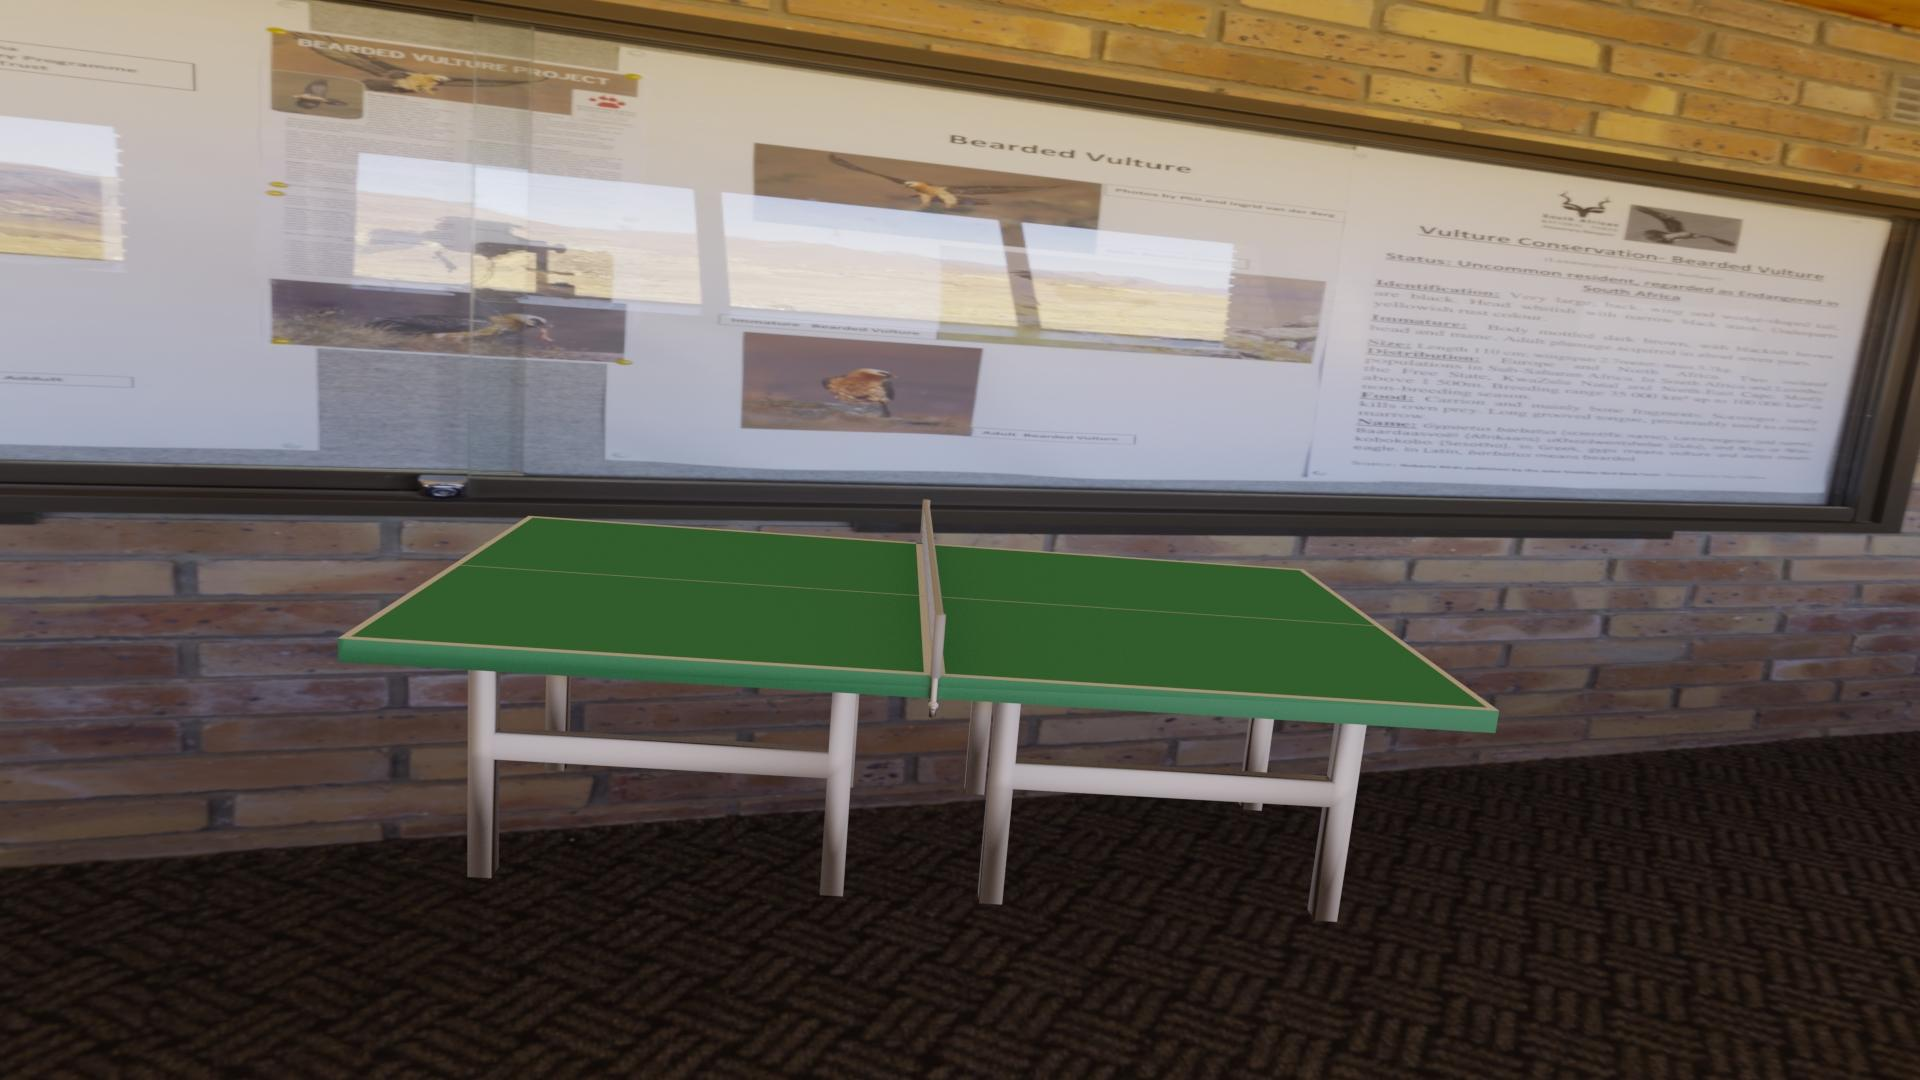table: (351, 517, 1487, 708)
